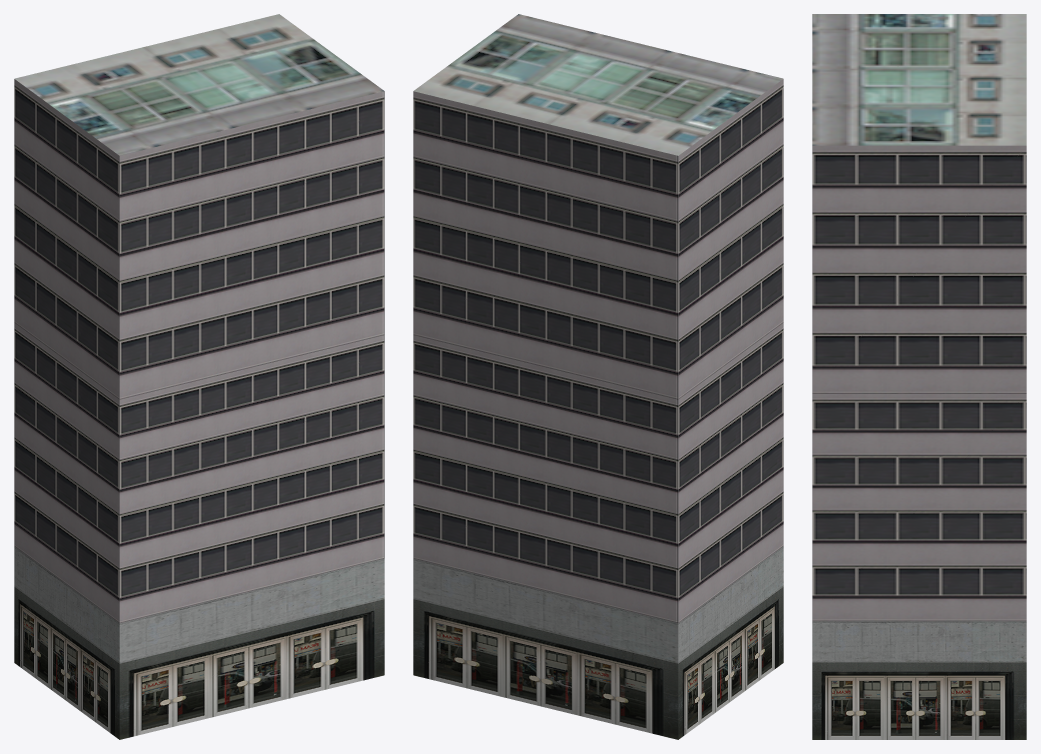
Rendered from C_Building01.fbx.
3 renders of one model, left to right at view 1: azimuth 30°, elevation 25°; view 2: azimuth 150°, elevation 25°; view 3: azimuth 270°, elevation 25°, orthographic.
Parts seen in each view (by area): view 1: C_Building01; view 2: C_Building01; view 3: C_Building01.
Boxes of the visible parts, x1,y1,x2,y2 form: C_Building01: (14,14,384,739); C_Building01: (413,14,783,739); C_Building01: (812,14,1026,739).
Bounding box in the file's own units: 2250 × 4737 × 1550.
